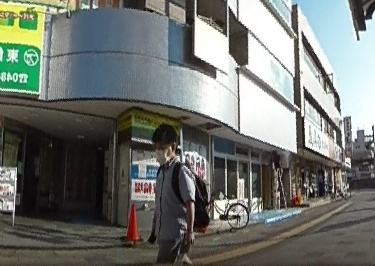person: (145, 121, 201, 265)
